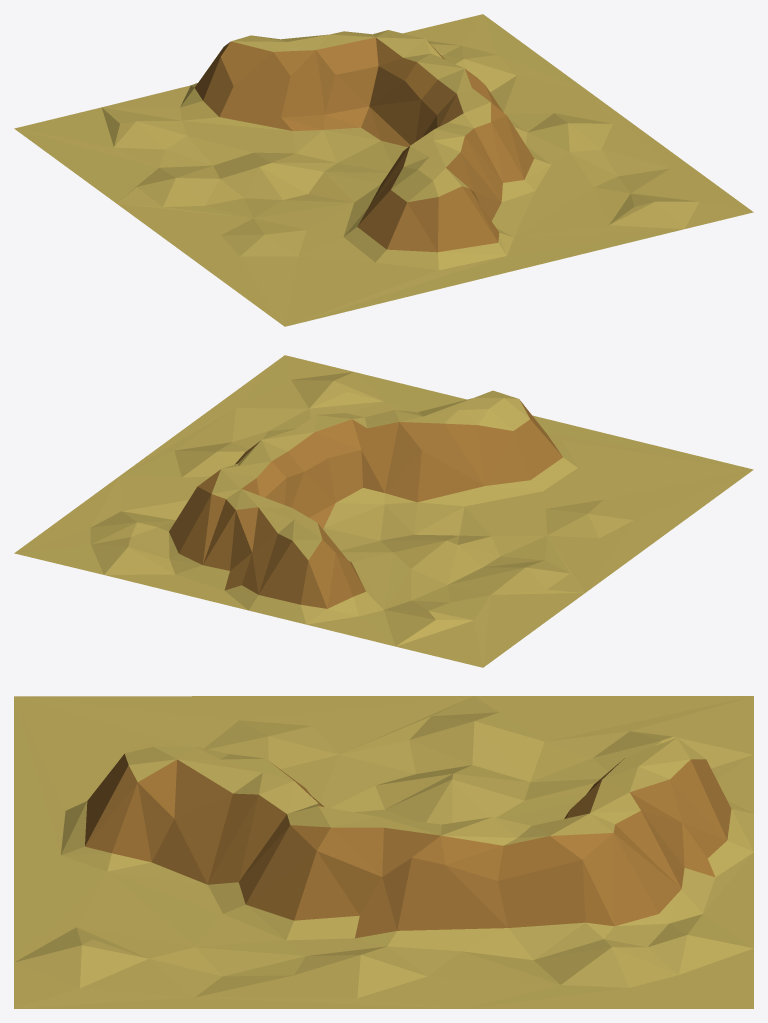
The model's file is Terrain_1.fbx.
3 renders of one model, top to bottom at view 1: azimuth 30°, elevation 25°; view 2: azimuth 150°, elevation 25°; view 3: azimuth 270°, elevation 25°, orthographic. The views are drawn at different scales.
Visible parts, largest first — view 1: Terrain_1; view 2: Terrain_1; view 3: Terrain_1.
Boxes of the visible parts, bbox=[...] form: Terrain_1: bbox=[14, 14, 753, 326]; Terrain_1: bbox=[14, 355, 753, 667]; Terrain_1: bbox=[14, 696, 753, 1008].
Size of the model in its own units: 2000 by 277 by 2000.
